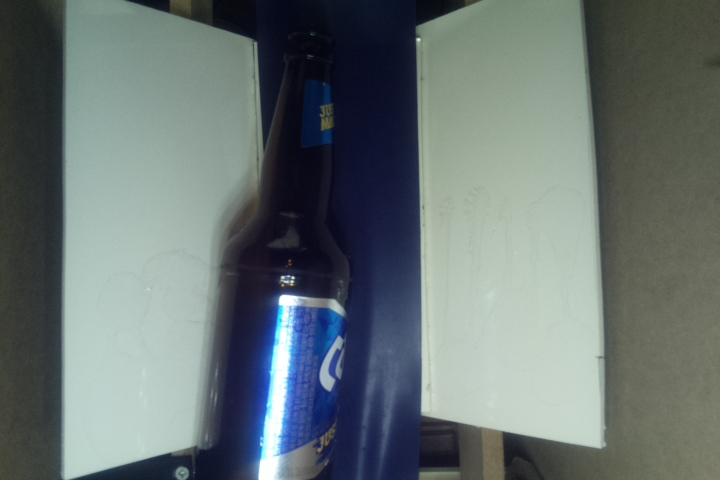makju: (203, 32, 357, 480)
